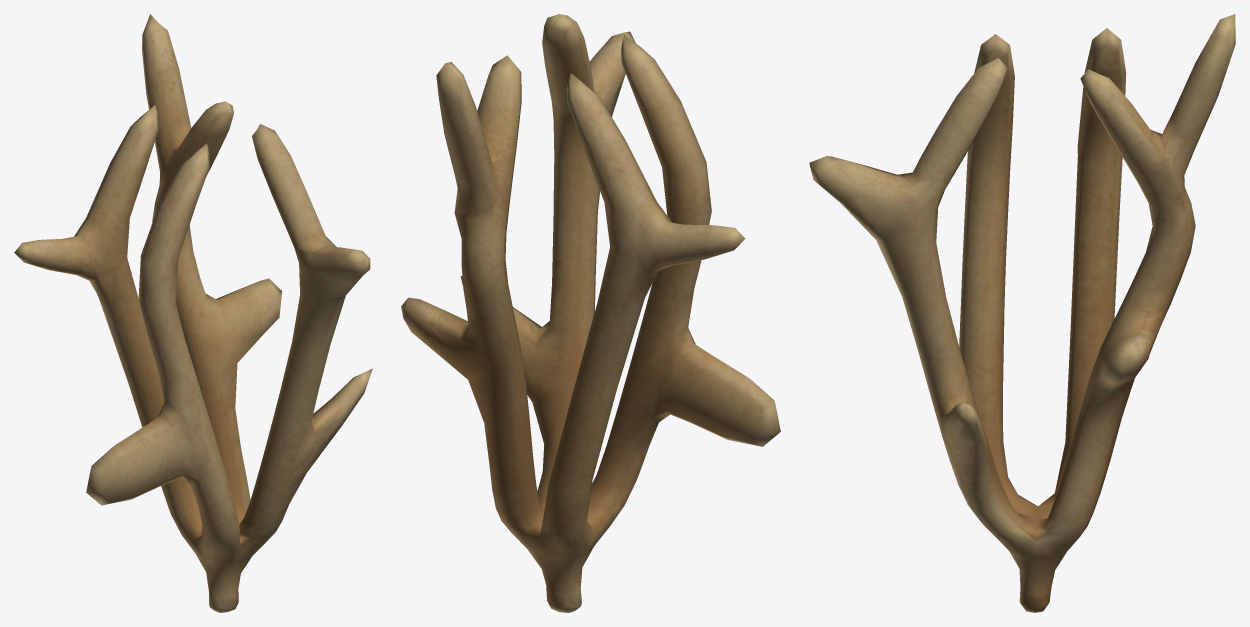
File: ChunkTree.fbx
3 views of the same model, side by side, from view 1: azimuth 30°, elevation 25°; view 2: azimuth 150°, elevation 25°; view 3: azimuth 270°, elevation 25° (orthographic). The views are drawn at different scales.
Parts seen in each view (by area): view 1: ChunkTree; view 2: ChunkTree; view 3: ChunkTree.
Boxes of the visible parts, x1=… form: ChunkTree: x1=14, y1=14, x2=372, y2=612; ChunkTree: x1=401, y1=14, x2=780, y2=612; ChunkTree: x1=809, y1=14, x2=1235, y2=612.
Size of the model in its own units: 840 by 1407 by 902.
Materials: 1 (1 with a texture image).
